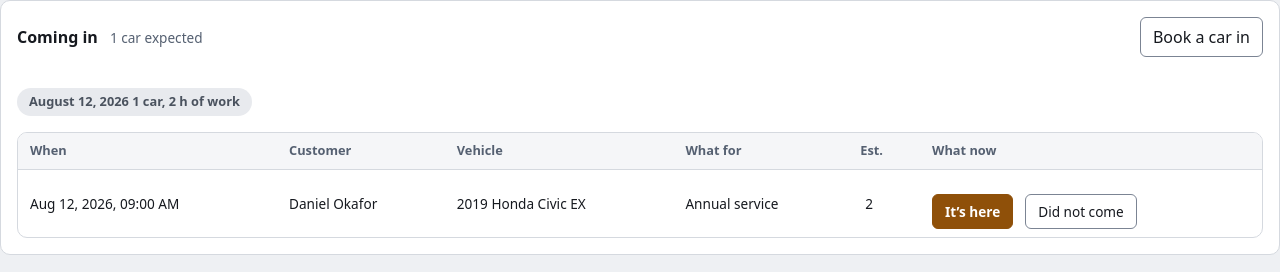
the service diary › says it saved, and the confirmation survives the refresh
Click the button "2" at (872,203), box [860,188,884,219]
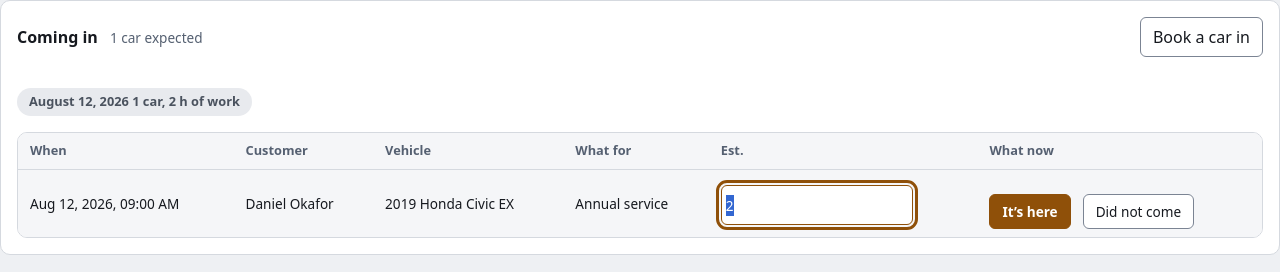
Replace the text in the field named "Est." with "4" at (817,205), box [721,185,913,225]
Then press Enter
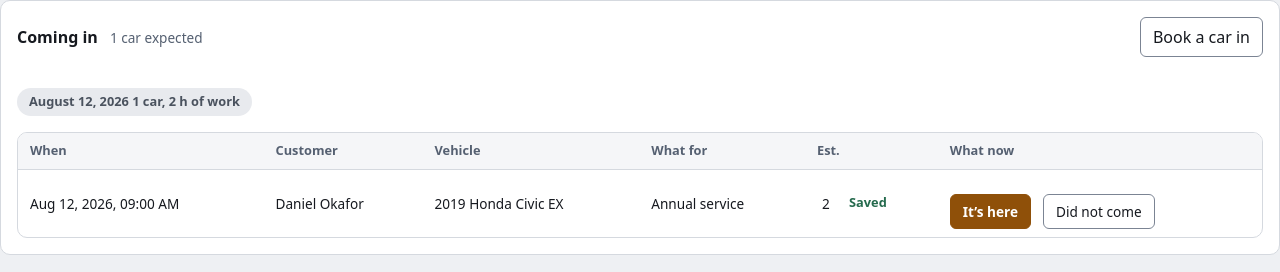
Now the message reads "Saved", box [849,193,887,211]
